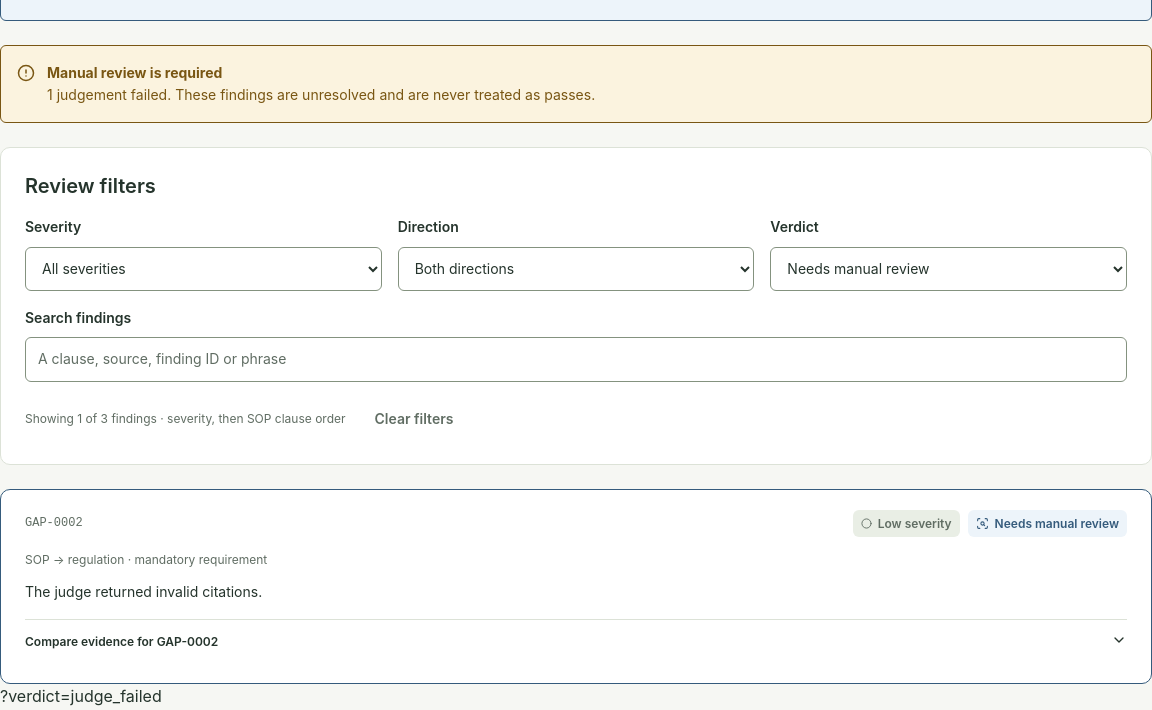
it: Gap report review › filters with the URL and restores a direct filtered link
(page scrolled)
Click the button "Clear filters".
click(414, 419)  # box [358,398,470,440]
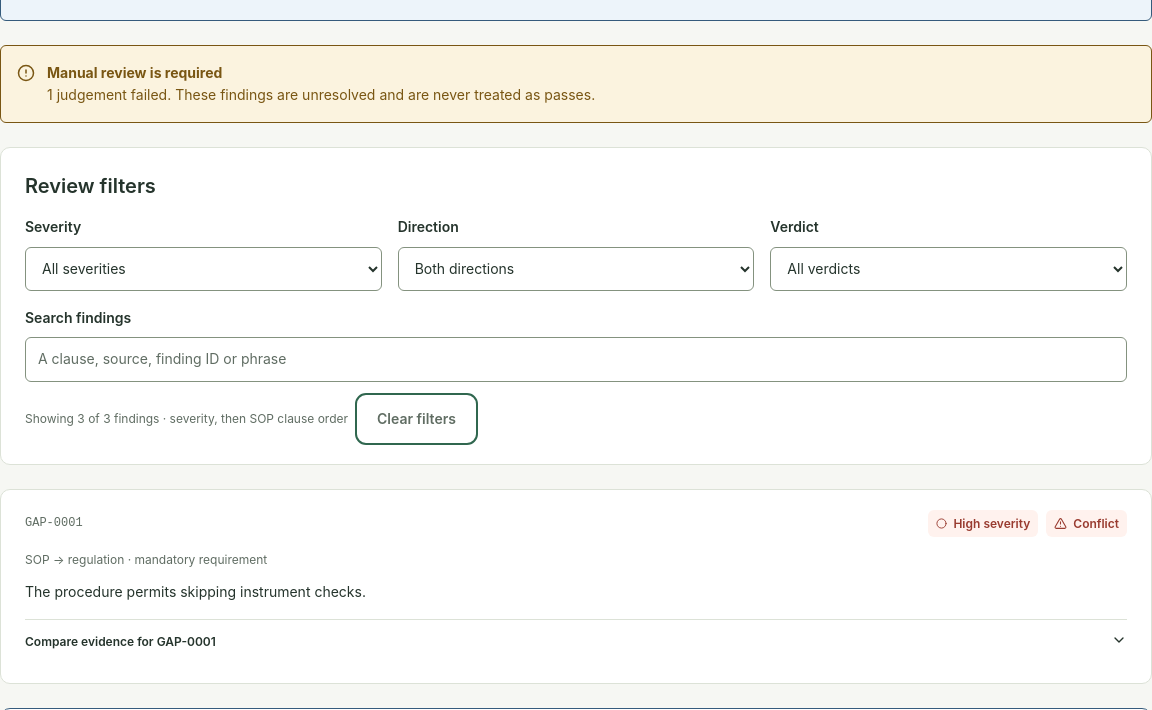
Select "High" in the dropdown labelled "Severity" at (203, 269), box [25,247,382,291]
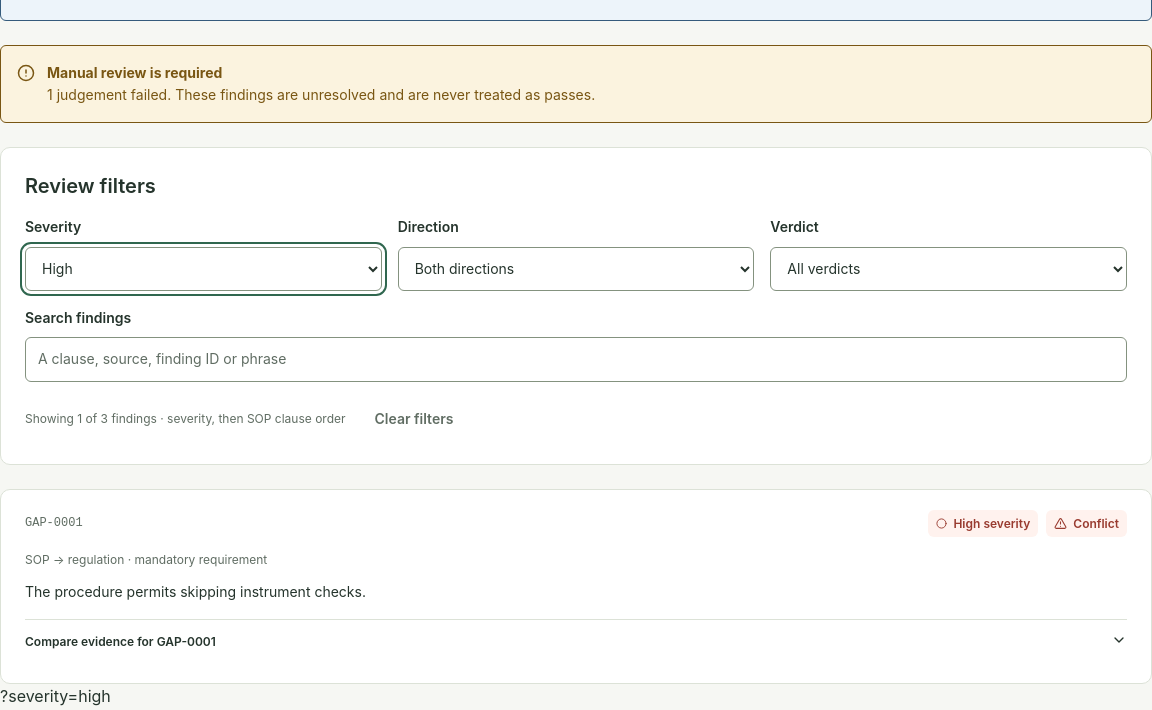
Expected: the text named "Current URL" reads "?severity=high", [0,686,111,706]
Type "no match" into the field labelled "Search findings".
click(576, 360); type("no match")  # box [25,337,1127,382]
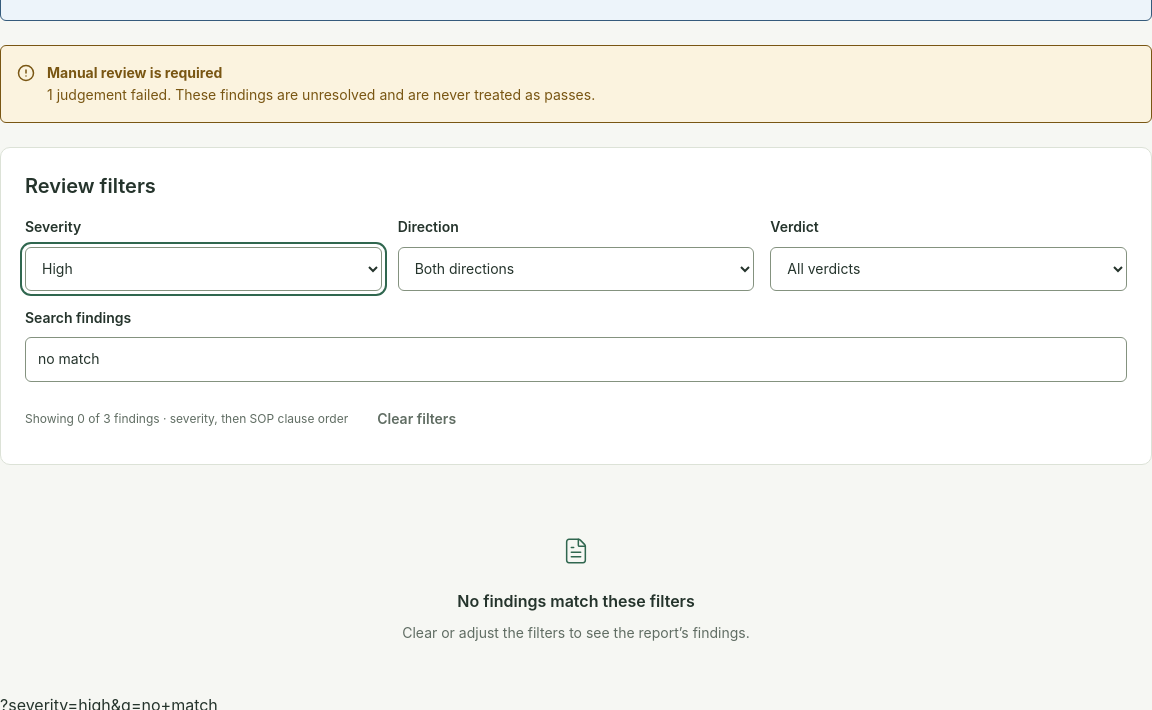
Expected: the heading "No findings match these filters" is shown, [457,591,695,611]
